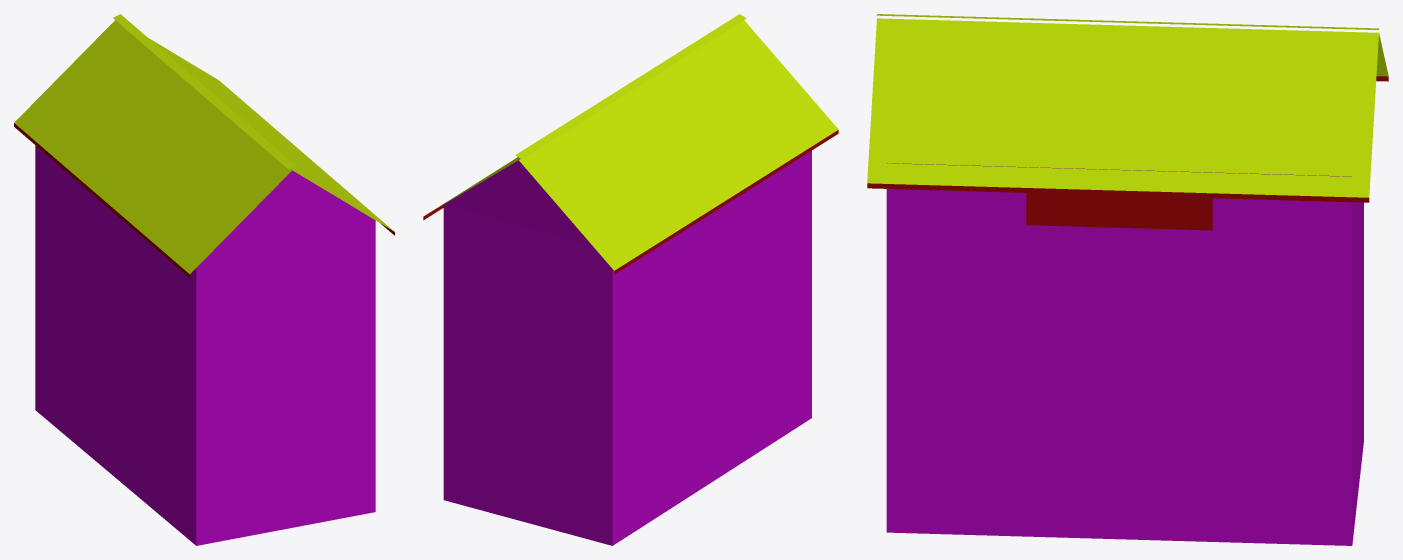
The model's file is bgj_317.glb.
3 views of the same model, side by side, from view 1: azimuth 30°, elevation 25°; view 2: azimuth 150°, elevation 25°; view 3: azimuth 270°, elevation 25° (orthographic). The views are drawn at different scales.
Parts seen in each view (by area): view 1: bgj_317; view 2: bgj_317; view 3: bgj_317.
Part boxes in pixels (x1,y1,x2,y2): bgj_317: (14, 14, 394, 545); bgj_317: (423, 14, 838, 545); bgj_317: (867, 14, 1388, 545).
Bounding box in the file's own units: 7.03 × 11.25 × 11.42.
